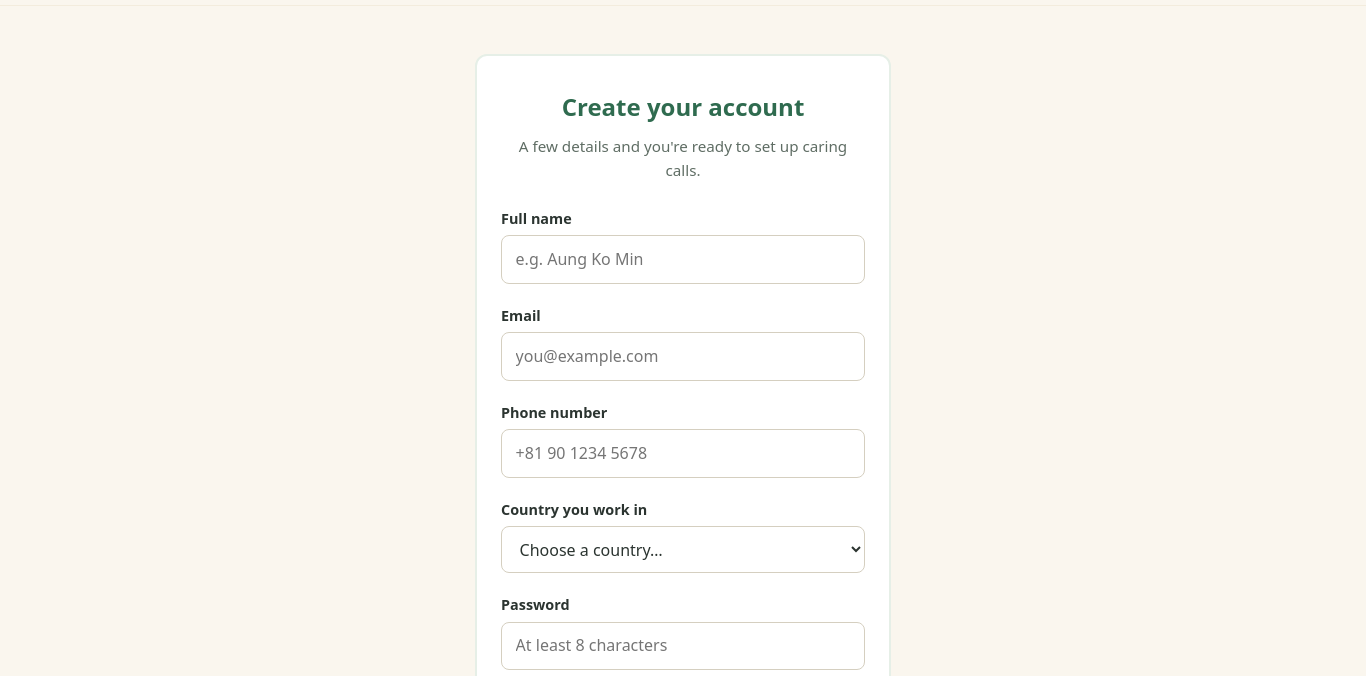
signup › valid signup creates the account and lands on the dashboard
The image size is (1366, 676).
Type "Aye Chan" into the field labelled "Full name" at [683, 259], box [501, 235, 865, 284]
Type "ayechan@example.com" into the field labelled "Email" at [683, 356], box [501, 332, 865, 381]
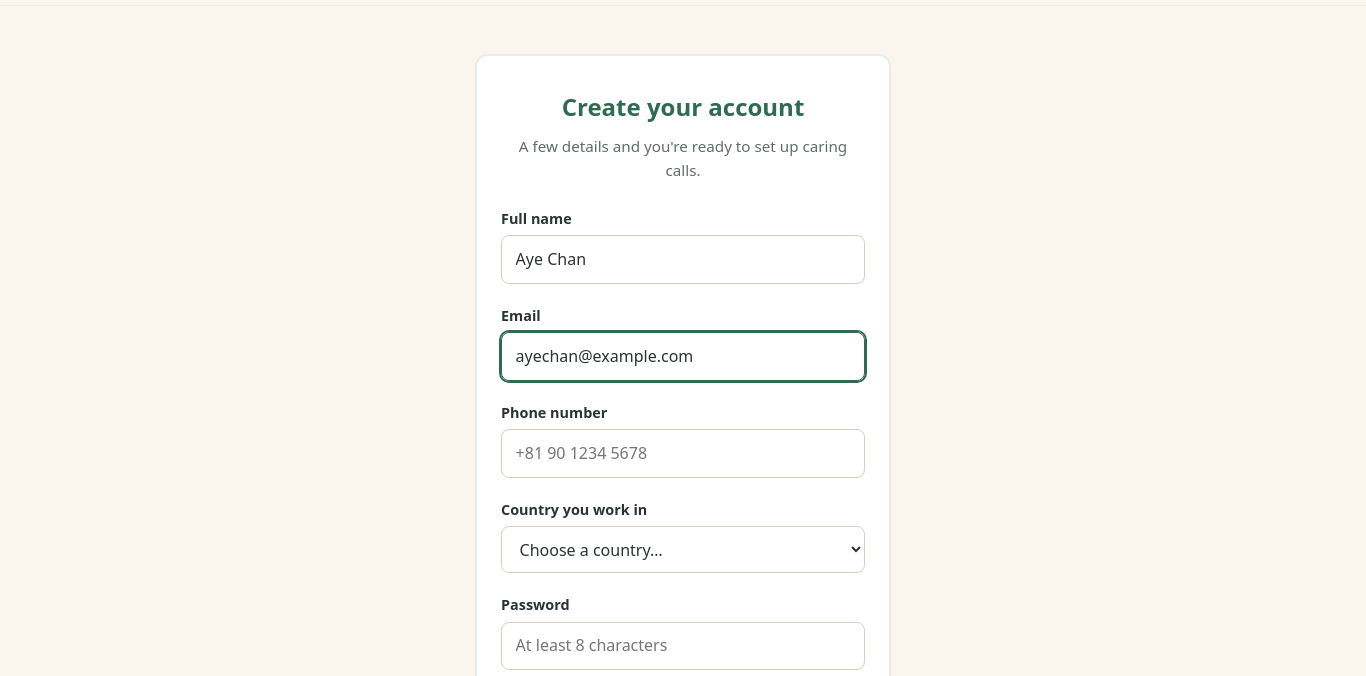
Type "+65 9123 4567" into the field labelled "Phone number" at [683, 453], box [501, 429, 865, 478]
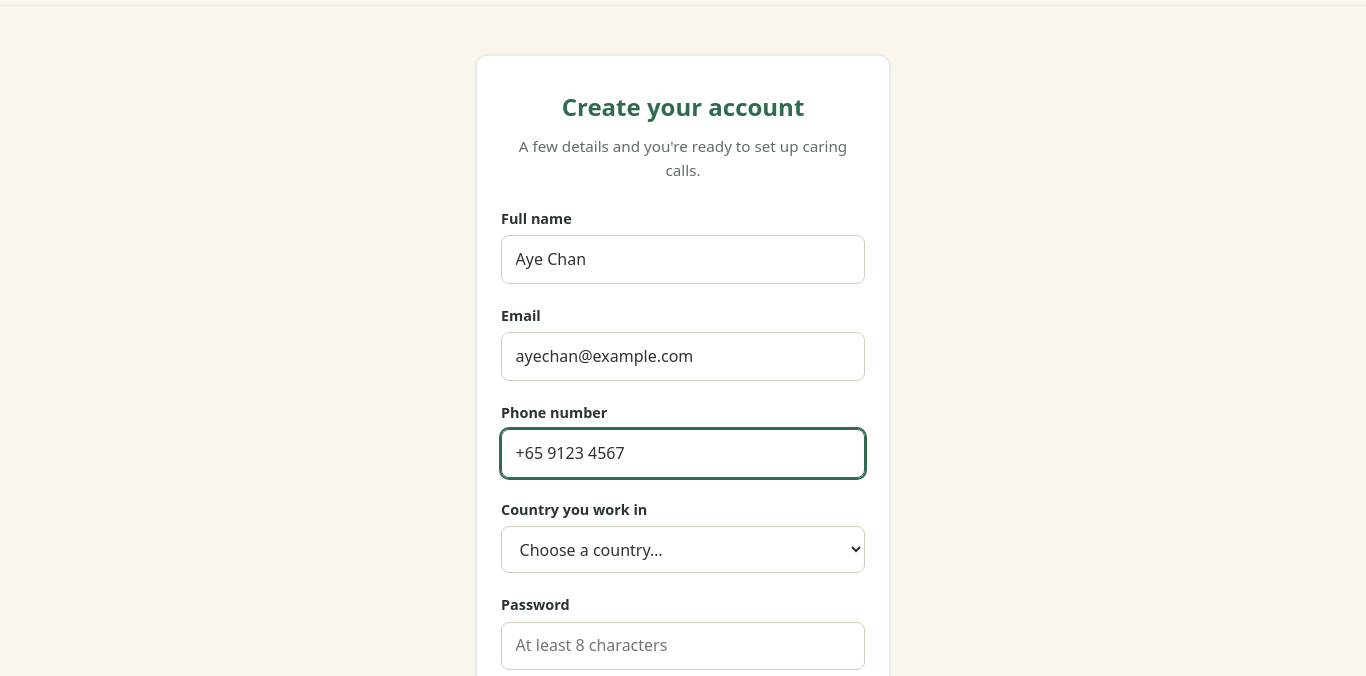
Select "Singapore" in the dropdown labelled "Country you work in" at [683, 550], box [501, 526, 865, 573]
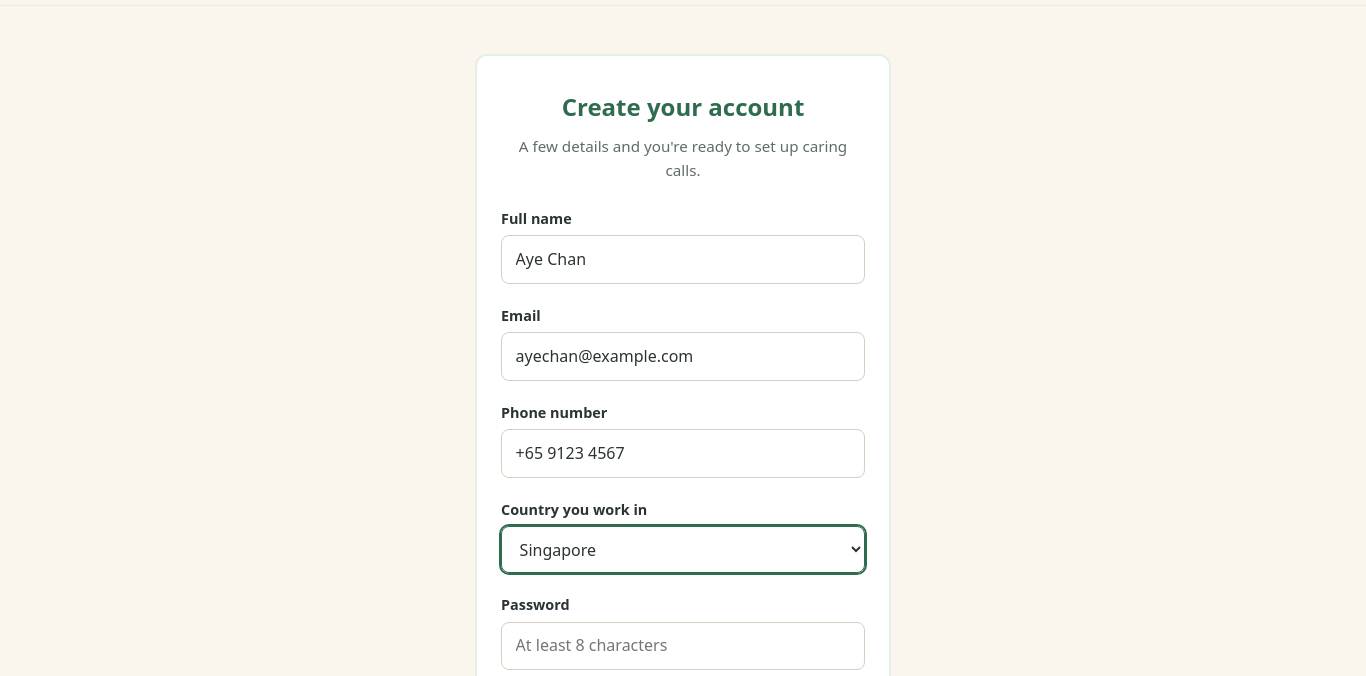
Type "testpass123" into the password field labelled "Password" at [683, 646], box [501, 622, 865, 670]
(page scrolled)
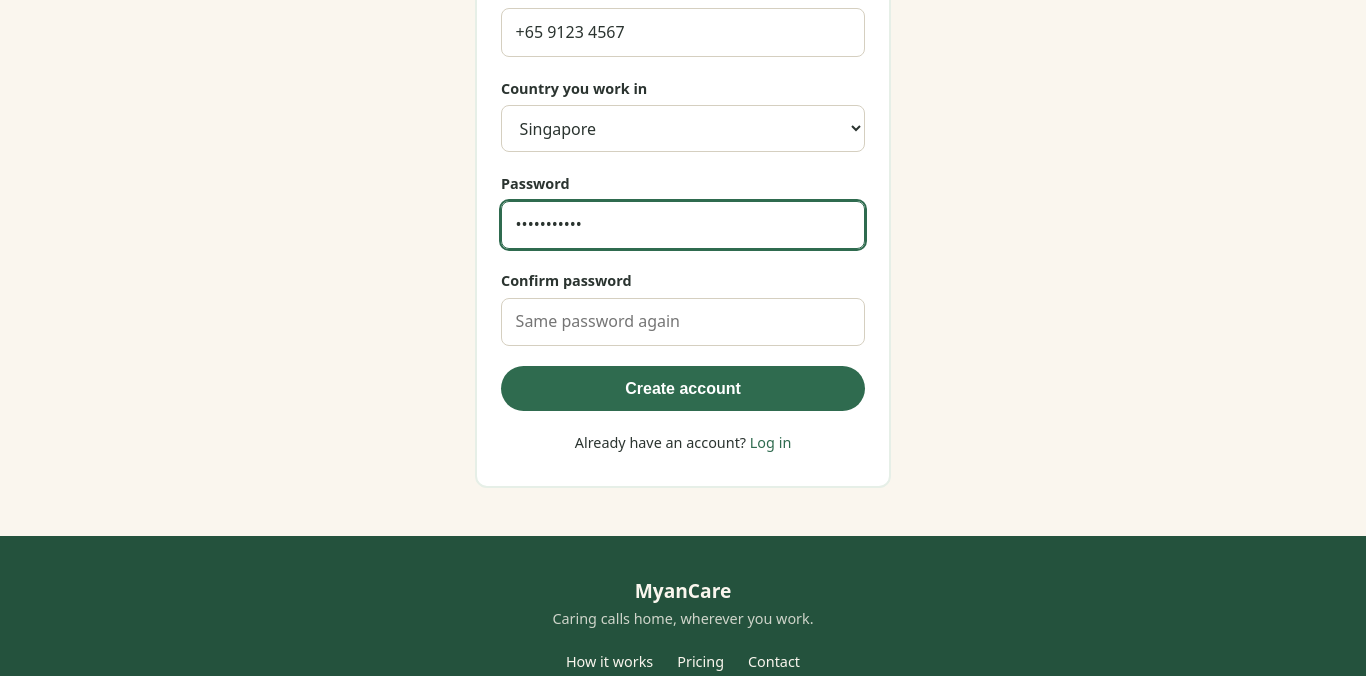
Type "testpass123" into the password field labelled "Confirm password" at [683, 322], box [501, 298, 865, 346]
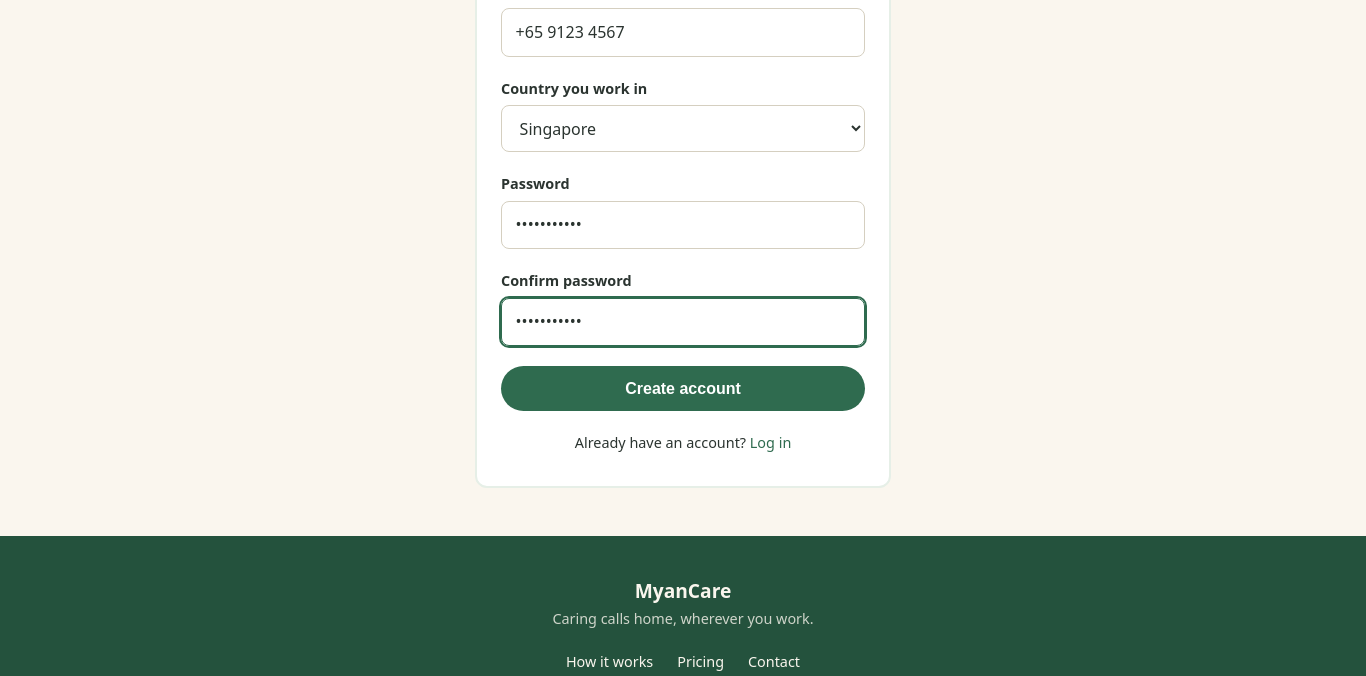
Click the button "Create account" at [683, 389], box [501, 366, 865, 411]
(page scrolled)
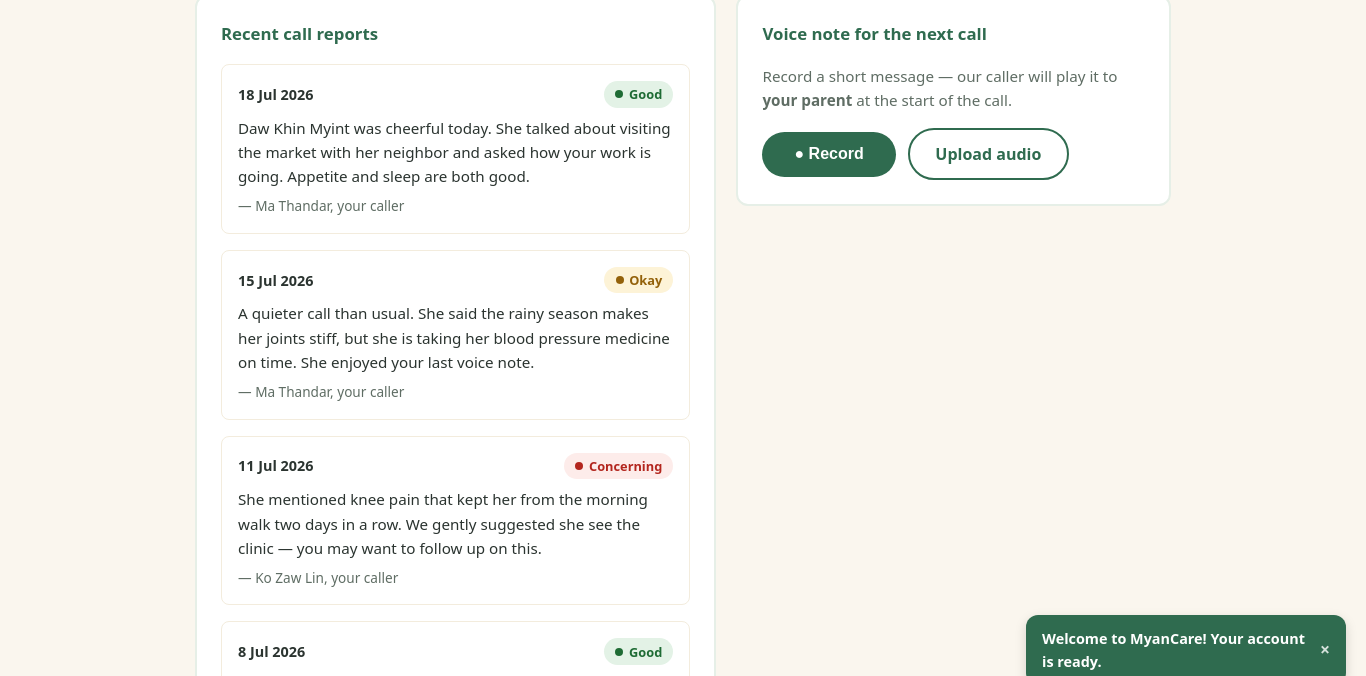
Expected: the text "Welcome to MyanCare! Your account is ready." is shown, [1042, 627, 1308, 673]
